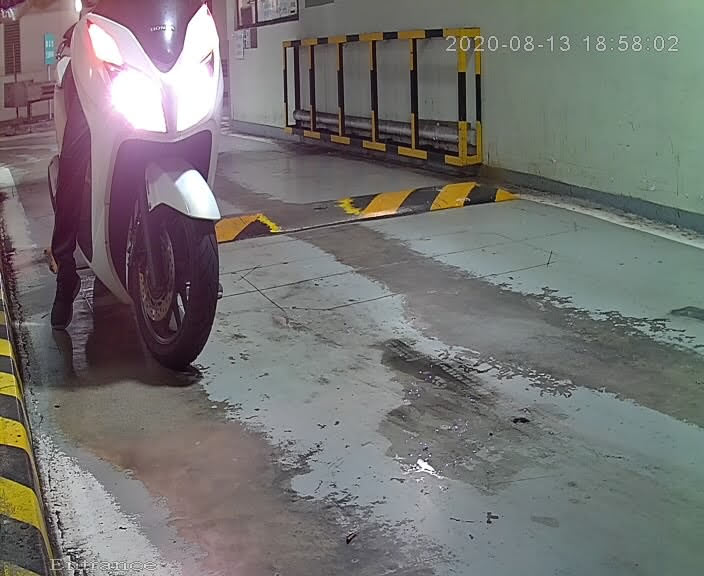motorcycle: (32, 1, 255, 393)
